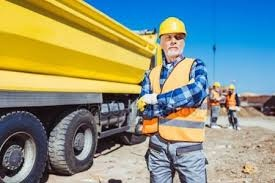yellow: (158, 14, 189, 58)
